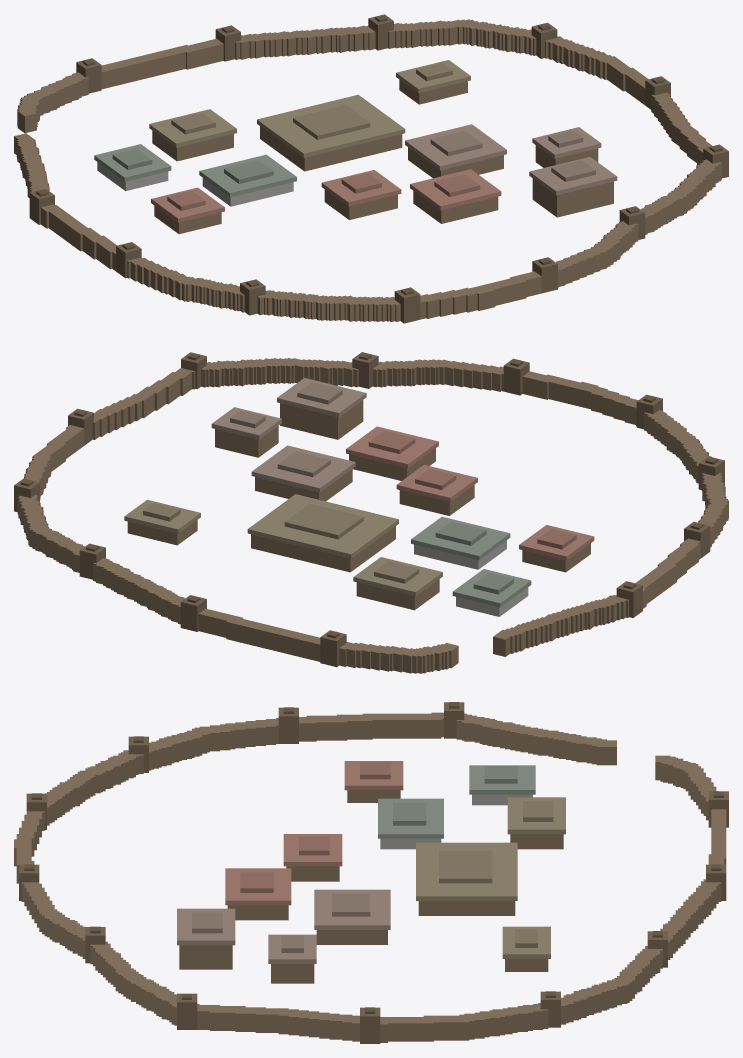
Rendered from ciudad_poblado_orco_poi_2603_2084_01.glb.
The picture shows the model from 3 angles, top to bottom: view 1: azimuth 30°, elevation 25°; view 2: azimuth 150°, elevation 25°; view 3: azimuth 270°, elevation 25°; orthographic projection. The views are drawn at different scales.
Parts seen in each view (by area): view 1: ciudad_poblado_orco_poi_2603_2084; view 2: ciudad_poblado_orco_poi_2603_2084; view 3: ciudad_poblado_orco_poi_2603_2084.
Boxes of the visible parts, <box> form: ciudad_poblado_orco_poi_2603_2084: <box>14,14,728,323</box>; ciudad_poblado_orco_poi_2603_2084: <box>14,352,728,673</box>; ciudad_poblado_orco_poi_2603_2084: <box>14,702,728,1043</box>.
Size of the model in its own units: 73 by 3.75 by 70.25.
